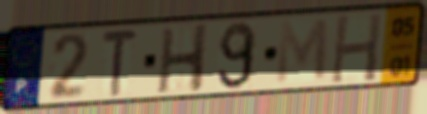2: (49, 31, 91, 102)
9: (215, 19, 259, 92)
H: (328, 11, 385, 86), (154, 21, 211, 96)
M: (274, 16, 331, 87)
T: (100, 29, 140, 100)
